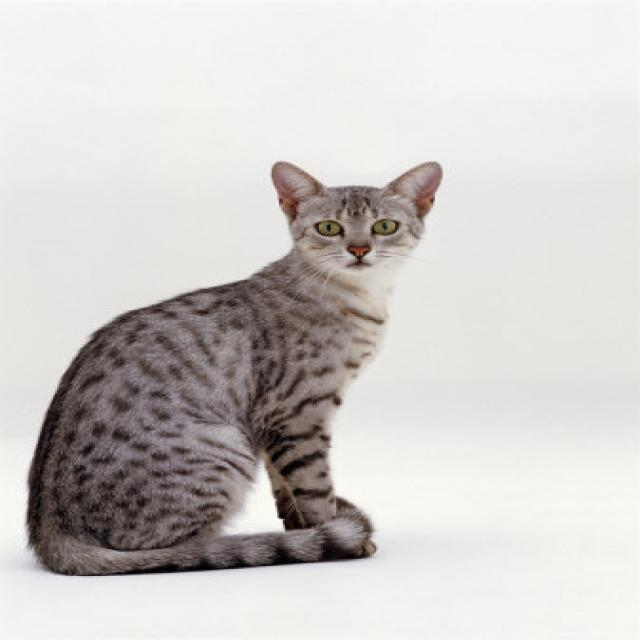Egyptian_Mau: (268, 152, 457, 276)
